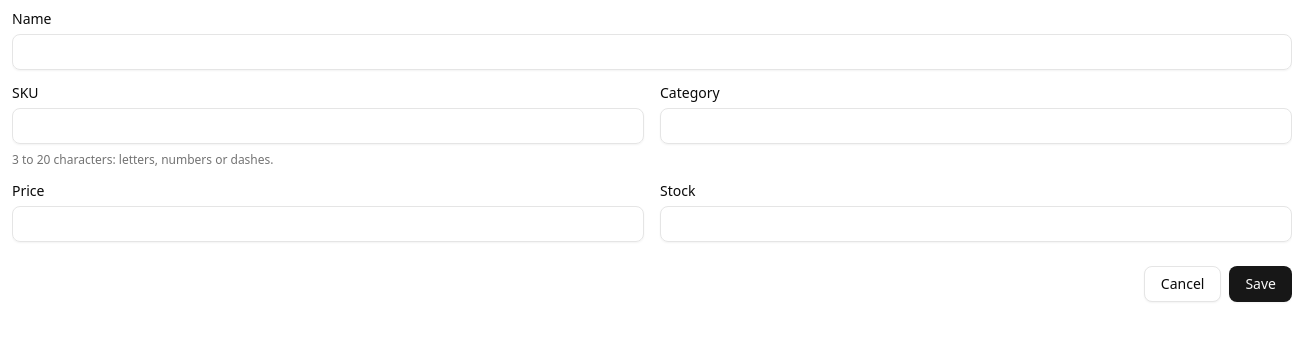
it: <ProductForm /> › muestra un error de la API debajo del campo afectado (SKU repetido)
In the field labelled "Name": (652, 52) [12,34,1292,70], type "Webcam HD"
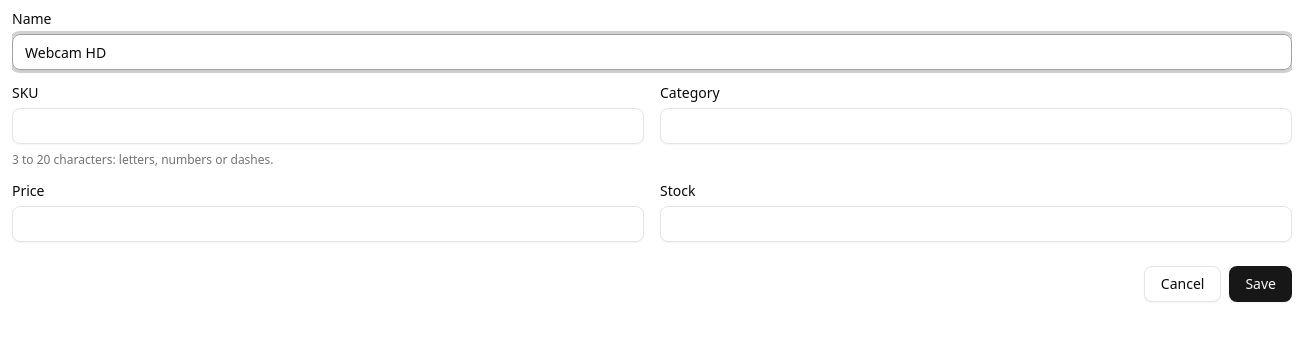
In the field labelled "SKU": (328, 126) [12,108,644,144], type "cam-007"
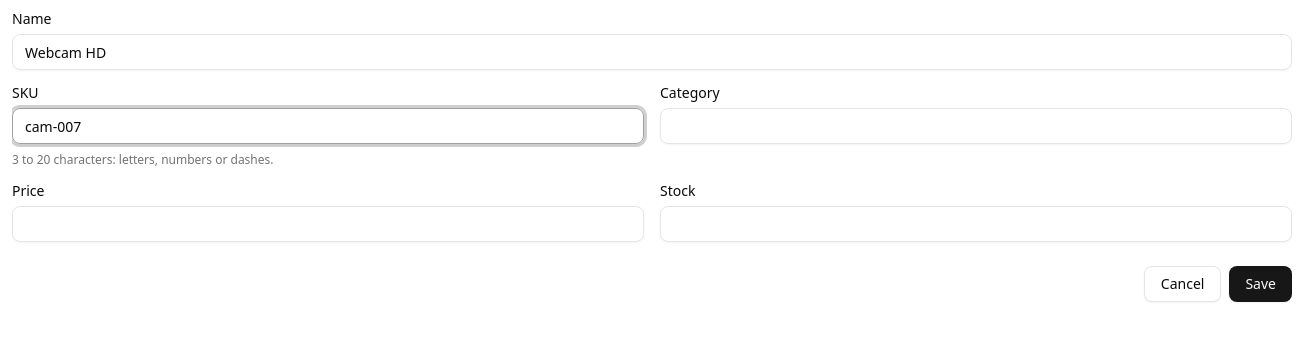
In the field labelled "Category": (976, 126) [660,108,1292,144], type "Accessories"
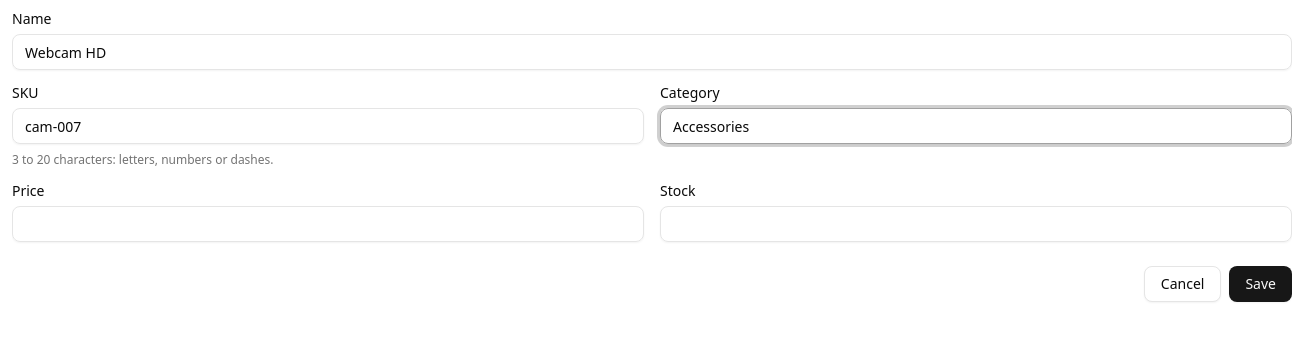
In the field labelled "Price": (328, 224) [12,206,644,242], type "49,90"
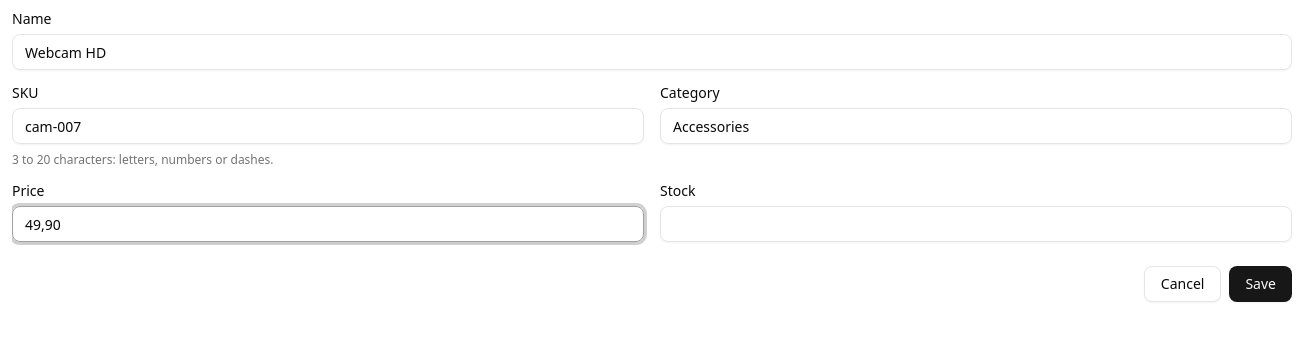
In the field labelled "Stock": (976, 224) [660,206,1292,242], type "10"
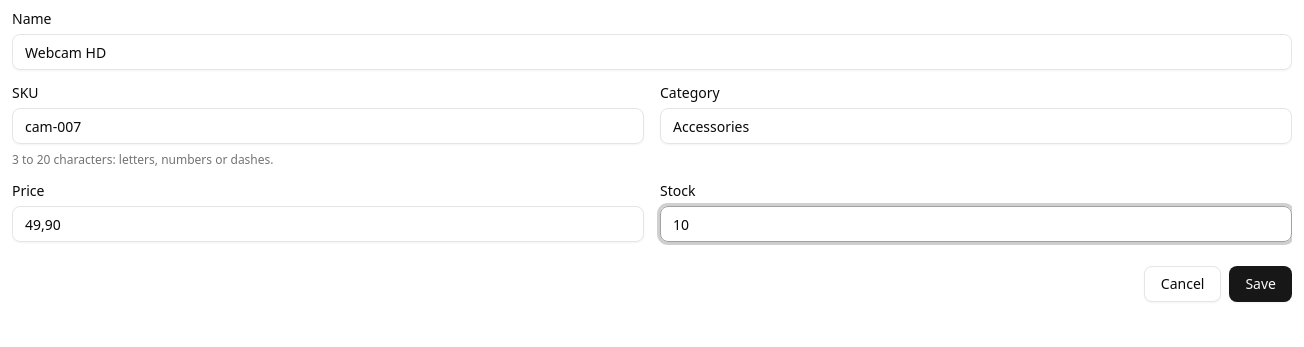
Click the button "Save": (1261, 284) [1229,266,1292,302]
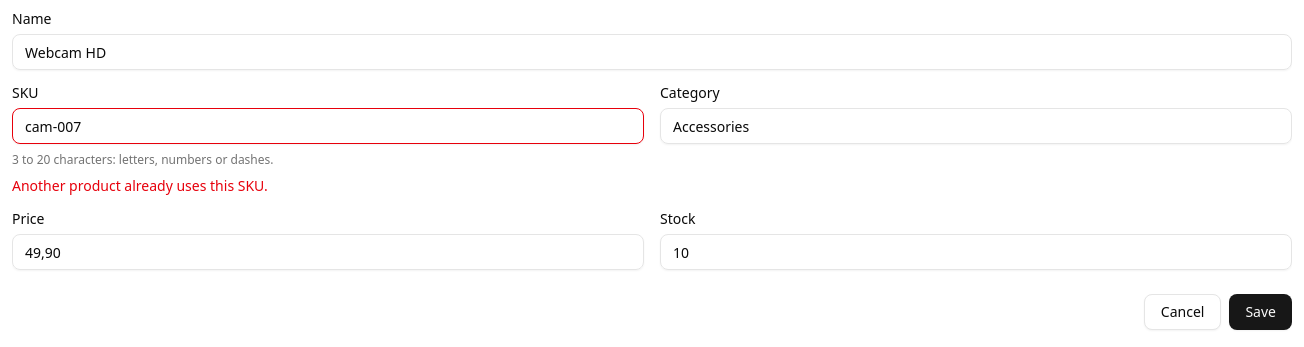
Expected: the button "Save" is enabled, [1229,294,1292,330]
Result: the text "Another product already uses this SKU." is shown at [12,176,268,195]
